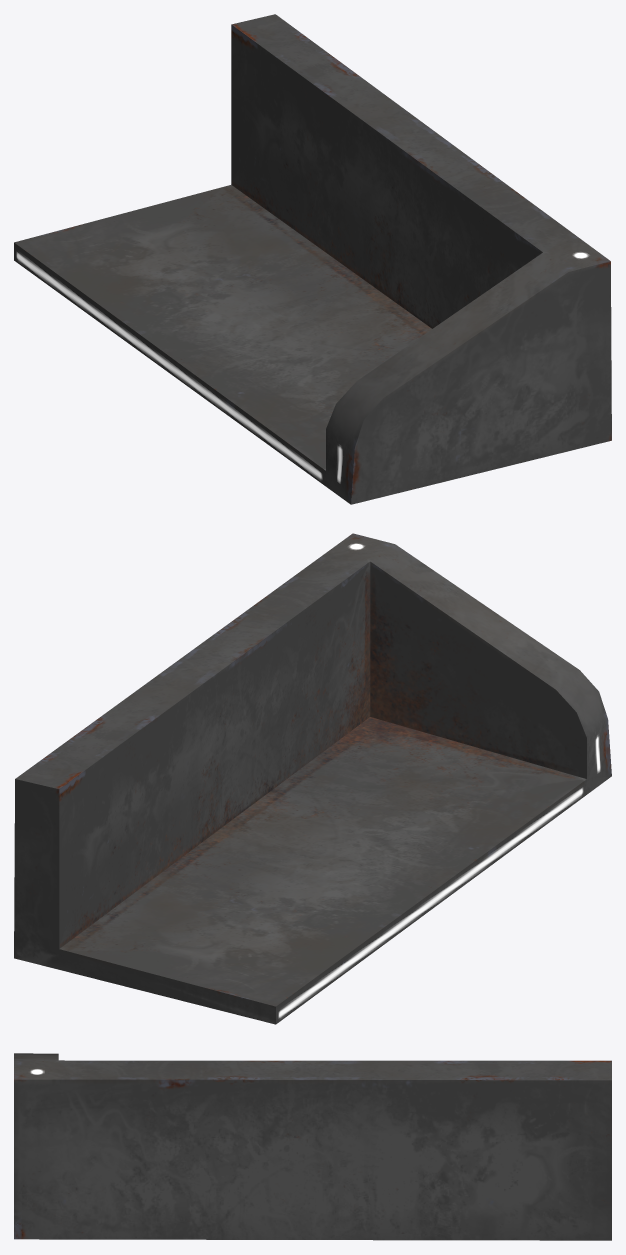
Rendered from SM_Fence_01.fbx.
3 renders of one model, top to bottom at view 1: azimuth 30°, elevation 25°; view 2: azimuth 150°, elevation 25°; view 3: azimuth 270°, elevation 25°, orthographic. The views are drawn at different scales.
Parts seen in each view (by area): view 1: SM_Fence_01_LOD0; view 2: SM_Fence_01_LOD0; view 3: SM_Fence_01_LOD0.
Part boxes in pixels (<box>): SM_Fence_01_LOD0: <box>14,14,611,504</box>; SM_Fence_01_LOD0: <box>14,533,611,1024</box>; SM_Fence_01_LOD0: <box>14,1053,611,1240</box>.
Bounding box in the file's own units: 180 × 400 × 120.
